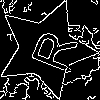R: (21, 24, 78, 75)
